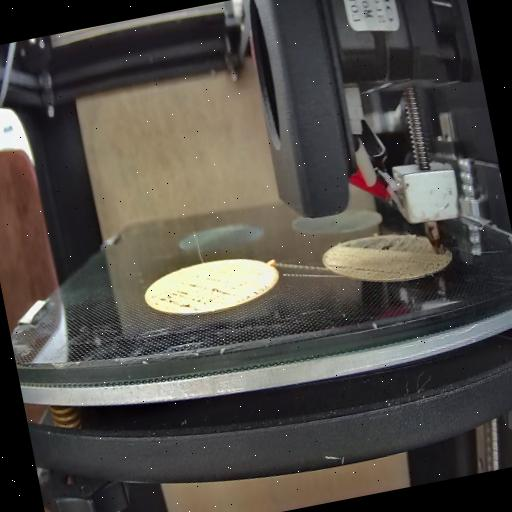under_extrusion: (154, 264, 274, 314), (322, 228, 424, 282)
